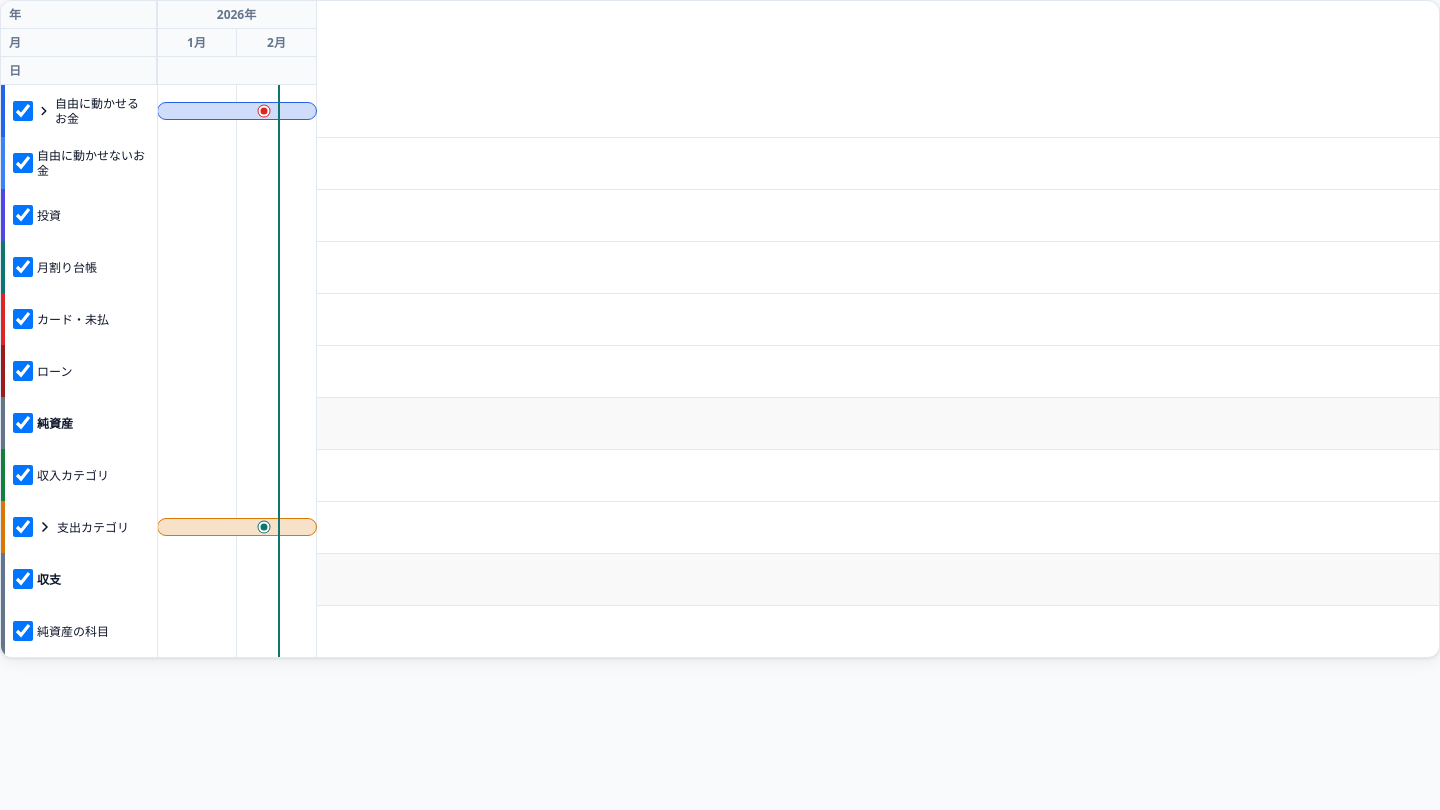
Scenario: TimelineCalendarView › 箱は 9 つ + 恒等行 2 つが常に並び、子を持つ箱だけが開く（開閉はズーム変更後も残る）
Step 1. Click the button "自由に動かせるお金" → {"x": 93, "y": 111}, box 37,89 -> 149,133
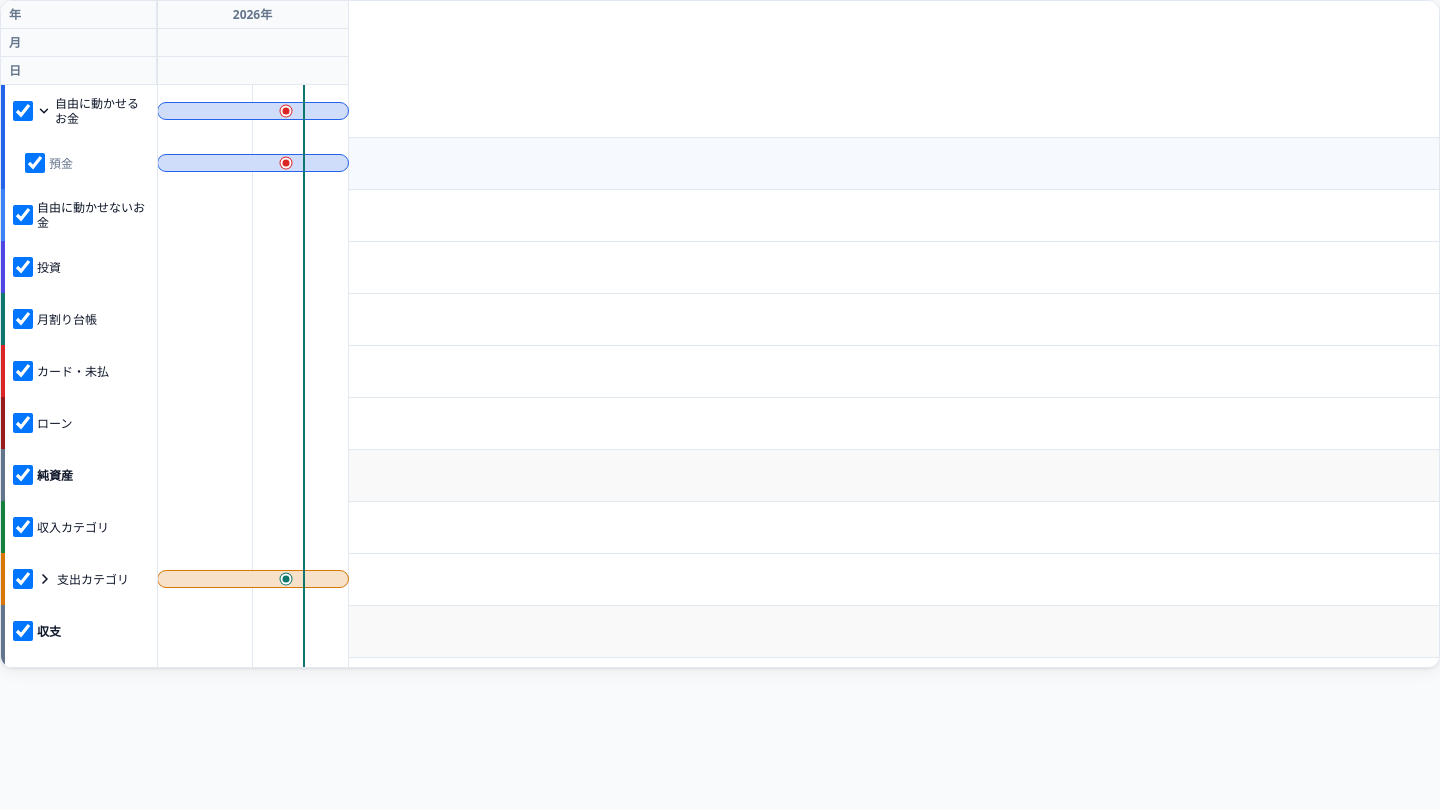
Now the text "預金" is shown, box 49,154 -> 73,172
